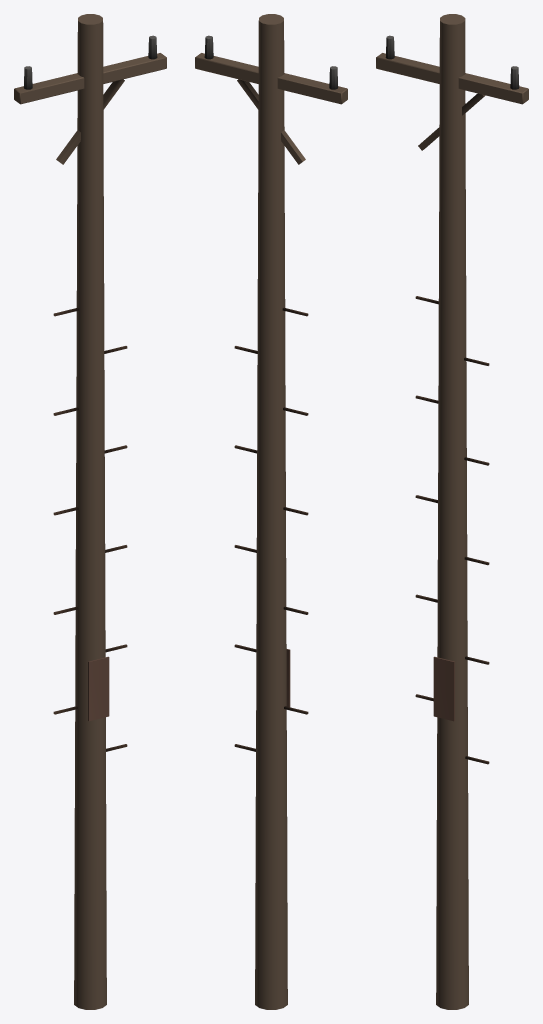
The model's file is prop.utility_pole.mo.glb.
3 renders of one model, left to right at view 1: azimuth 30°, elevation 25°; view 2: azimuth 150°, elevation 25°; view 3: azimuth 330°, elevation 25°, orthographic.
Visible parts, largest first — view 1: LOD0; view 2: LOD0; view 3: LOD0.
Boxes of the visible parts, x1,y1,x2,y2 form: LOD0: (14, 14, 166, 1009); LOD0: (195, 14, 347, 1009); LOD0: (376, 14, 528, 1009).
Size of what is drawn, in the model's own units: 1.3 by 8.3 by 0.2564.
